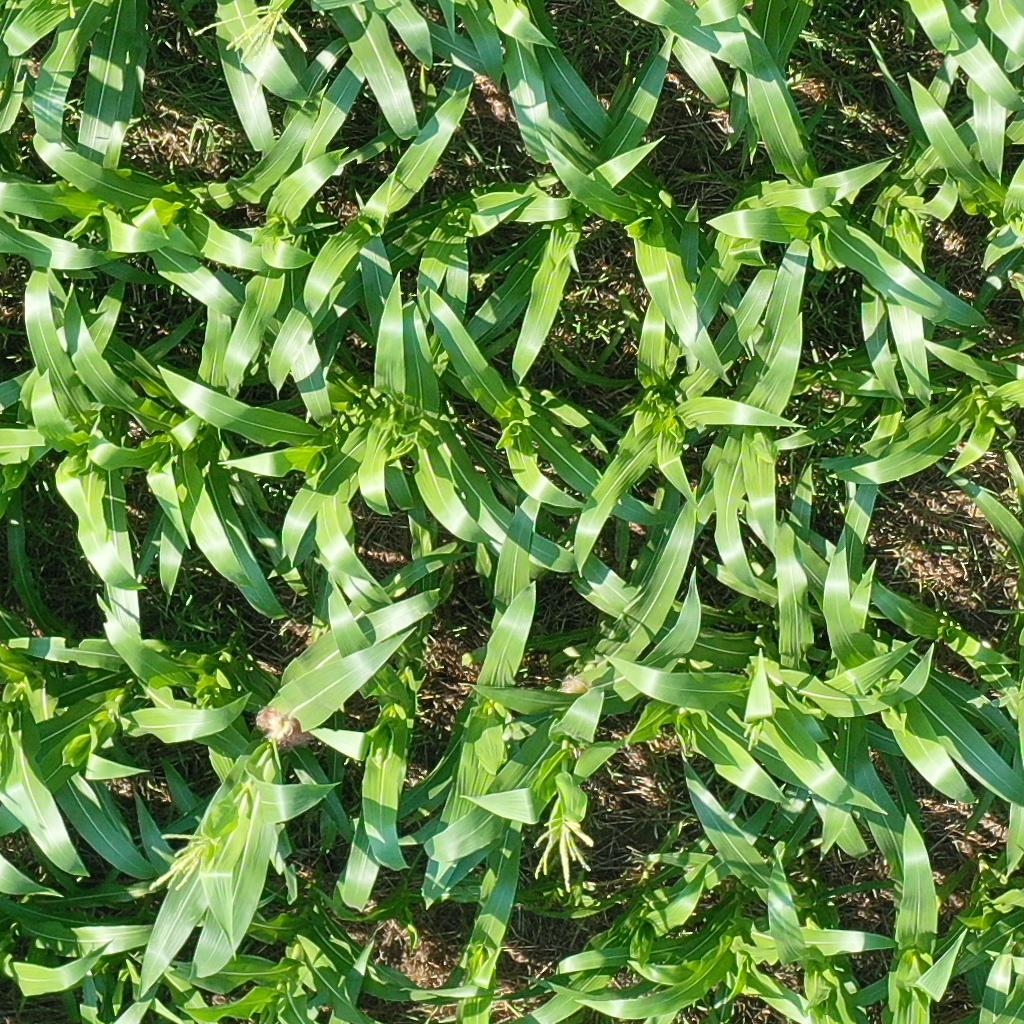Tassel: (187, 1, 315, 105), (531, 813, 601, 894), (144, 826, 221, 892), (741, 716, 767, 751)
